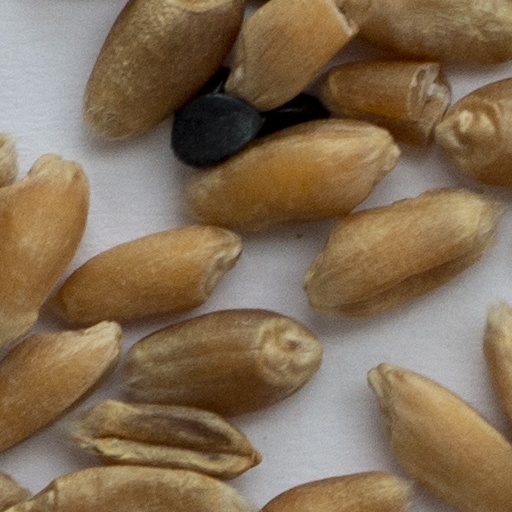Fallopia-Сonvolvulus-poly: (172, 95, 260, 165)
Wheat-grain-damaged-poly: (309, 62, 452, 143)
